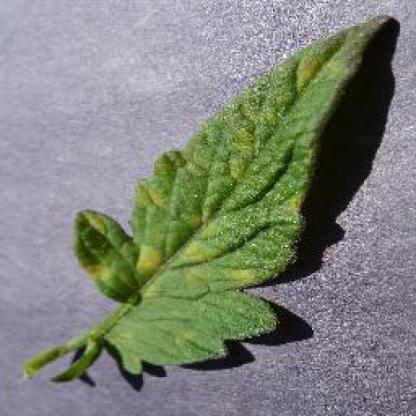Tomato_Leaf_Mold: (76, 13, 386, 338)
